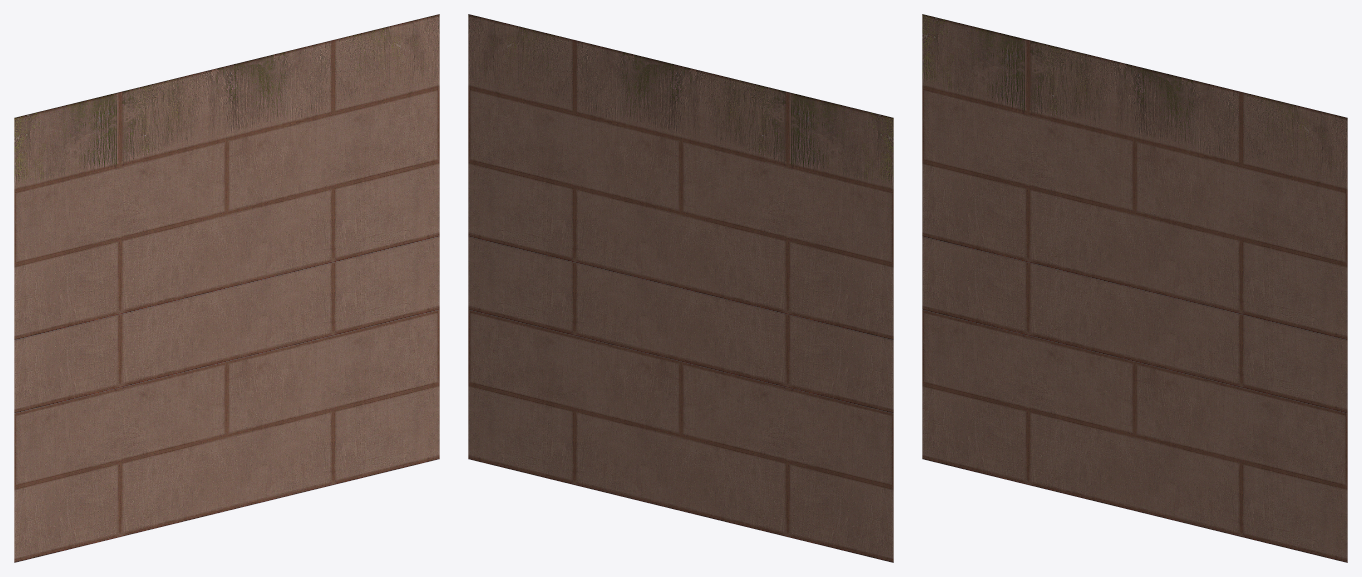
The model's file is House_06_Wall_04.fbx.
The picture shows the model from 3 angles, left to right: view 1: azimuth 30°, elevation 25°; view 2: azimuth 150°, elevation 25°; view 3: azimuth 330°, elevation 25°; orthographic projection.
Visible parts, largest first — view 1: House_06_Wall_04; view 2: House_06_Wall_04; view 3: House_06_Wall_04.
Part boxes in pixels (x1,y1,x2,y2): House_06_Wall_04: (14, 14, 439, 562); House_06_Wall_04: (468, 14, 893, 562); House_06_Wall_04: (922, 14, 1347, 562).
Size of the model in its own units: 200 by 200 by 0.
